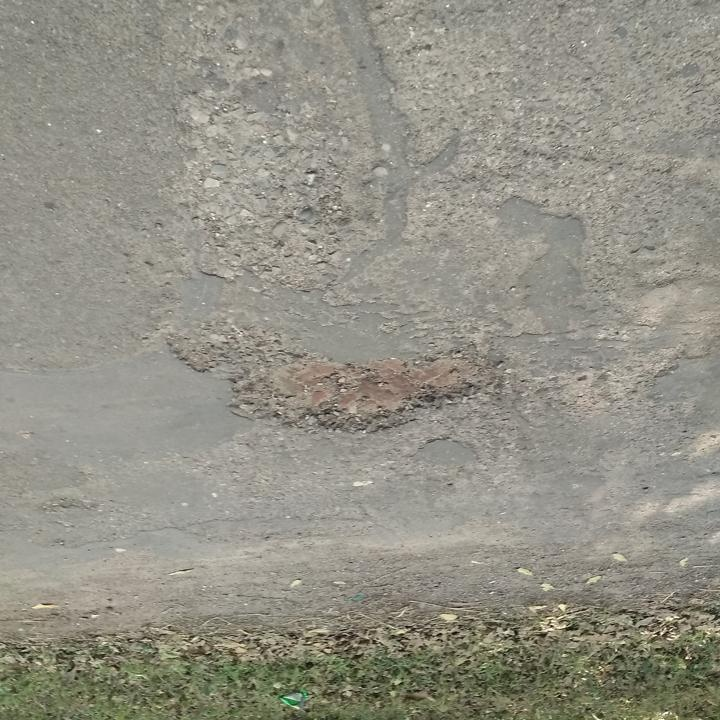pothole: (161, 320, 505, 442)
